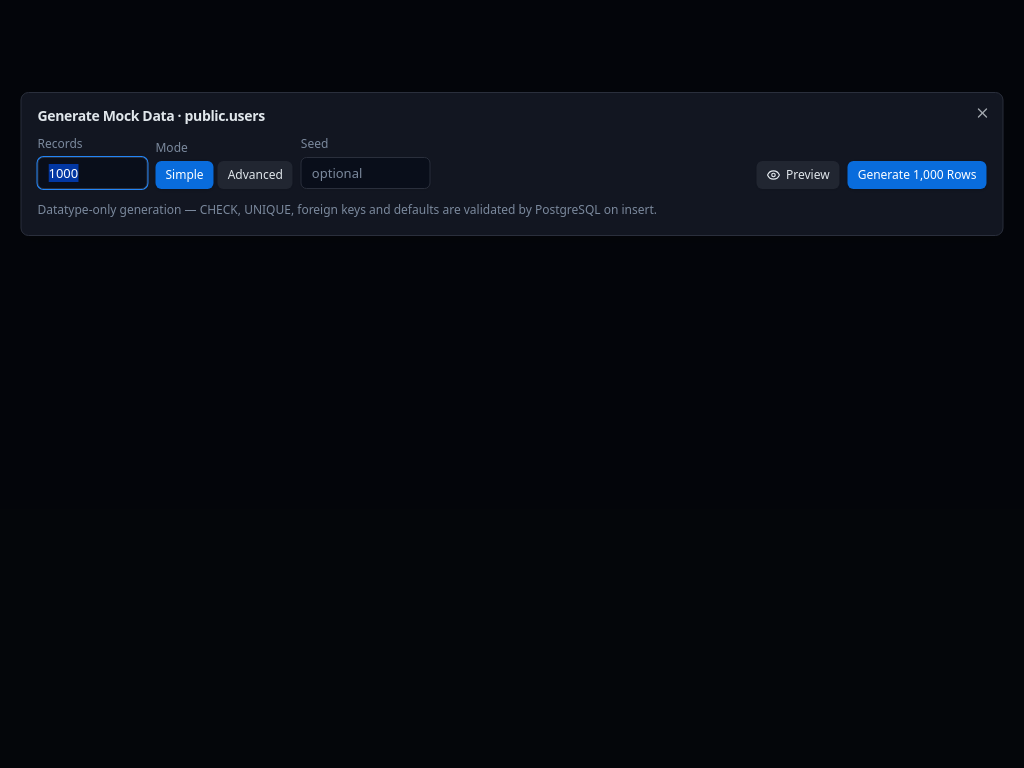
MockDataDialog › loads metadata and previews in simple mode
This screenshot has width=1024, height=768.
Expected: the button "Generate 1,000 Rows" is enabled, [848,161,986,189]
What coordinates should you click on to do the following:
click the button "Preview"
I would click on:
 (798, 175)
Its box is [756,161,840,189].
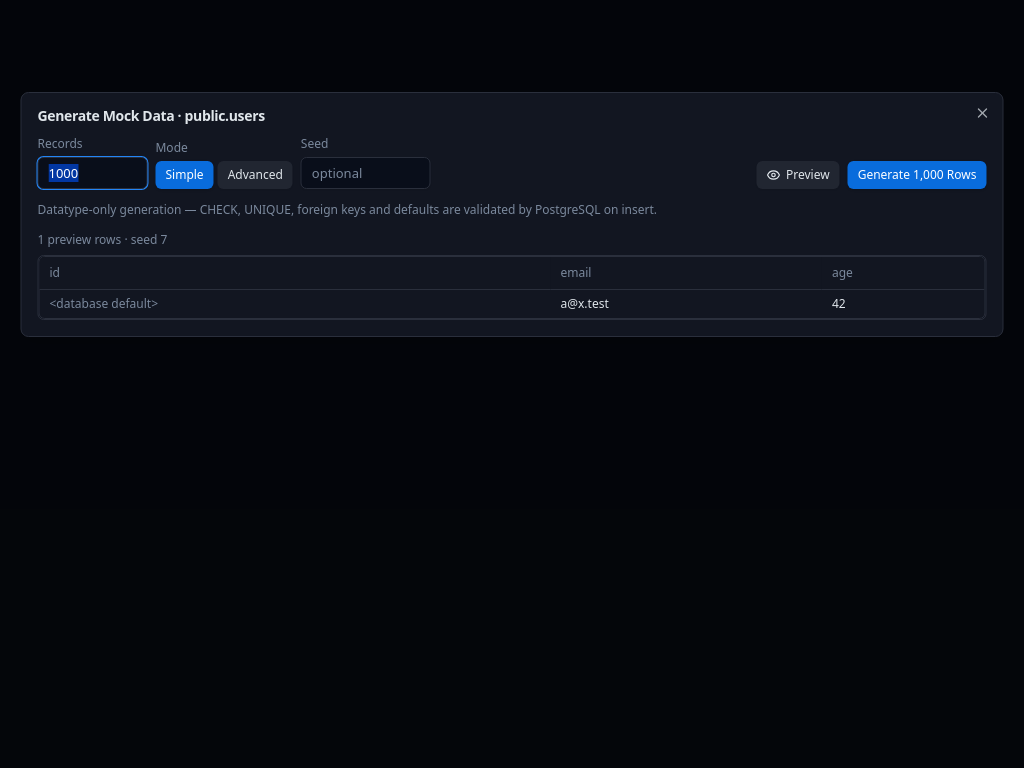
Expected: the text "a@x.test" is shown, [550,289,822,318]
Expected: the text "<database default>" is shown, [40,289,550,318]
